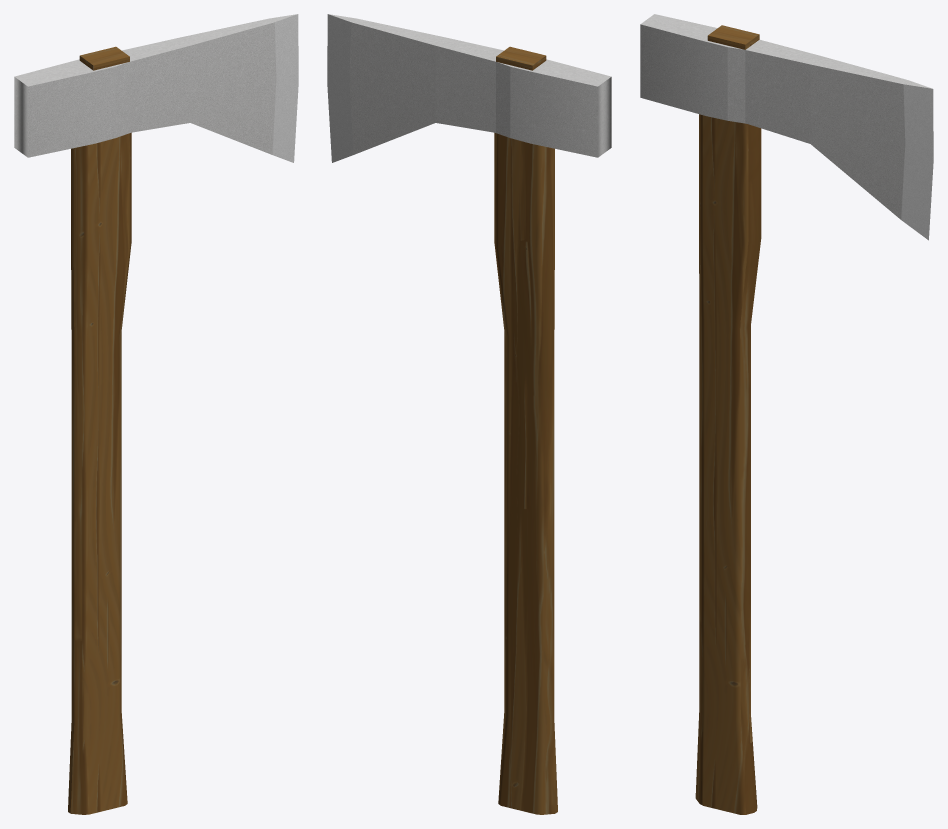
The picture shows the model from 3 angles, left to right: view 1: azimuth 30°, elevation 25°; view 2: azimuth 150°, elevation 25°; view 3: azimuth 330°, elevation 25°; orthographic projection. The views are drawn at different scales.
Visible parts, largest first — view 1: pCube1; view 2: pCube1; view 3: pCube1.
Part boxes in pixels (x1=…): pCube1: x1=14, y1=14, x2=298, y2=814; pCube1: x1=327, y1=14, x2=611, y2=814; pCube1: x1=640, y1=14, x2=933, y2=814.
Bounding box in the file's own units: 11.69 × 30.12 × 1.31.
